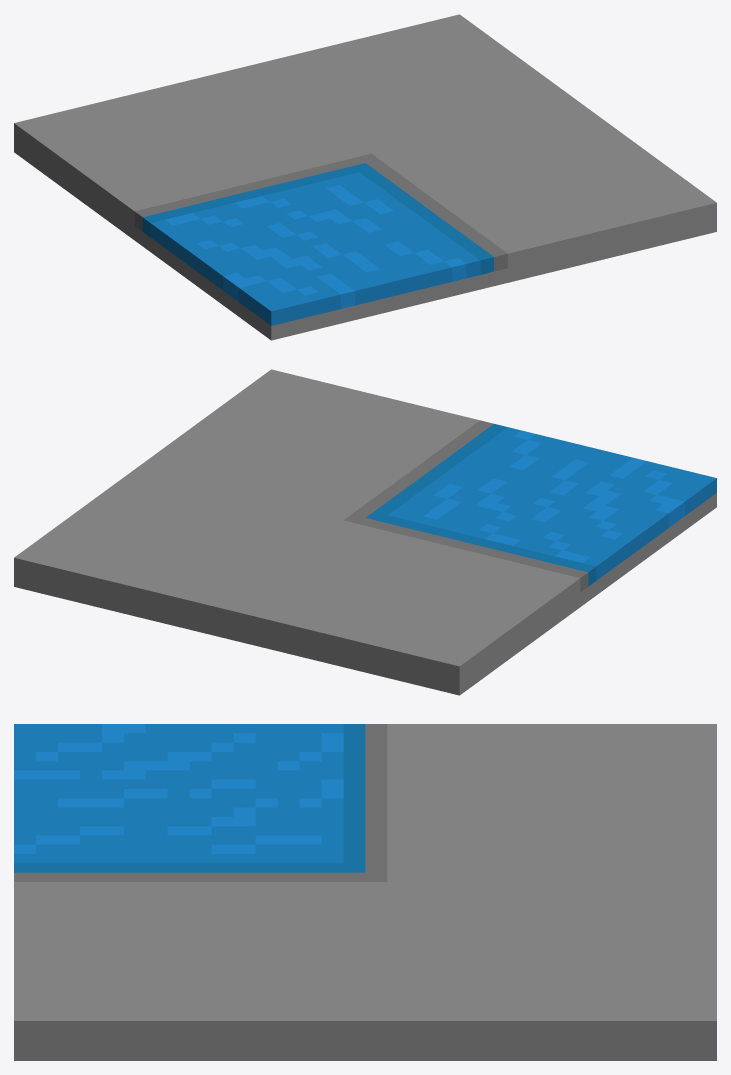
Rendered from city-water-edgy-edge-inner-2.gltf.
3 renders of one model, top to bottom at view 1: azimuth 30°, elevation 25°; view 2: azimuth 150°, elevation 25°; view 3: azimuth 270°, elevation 25°, orthographic. The views are drawn at different scales.
Parts seen in each view (by area): view 1: city-water-edgy-edge-inner-2_model; view 2: city-water-edgy-edge-inner-2_model; view 3: city-water-edgy-edge-inner-2_model.
Boxes of the visible parts, x1=… form: city-water-edgy-edge-inner-2_model: x1=14, y1=14, x2=716, y2=340; city-water-edgy-edge-inner-2_model: x1=14, y1=369, x2=716, y2=695; city-water-edgy-edge-inner-2_model: x1=14, y1=724, x2=716, y2=1060.
Bounding box in the file's own units: 3.2 × 0.2 × 3.2.
1 material, 1 textured.
